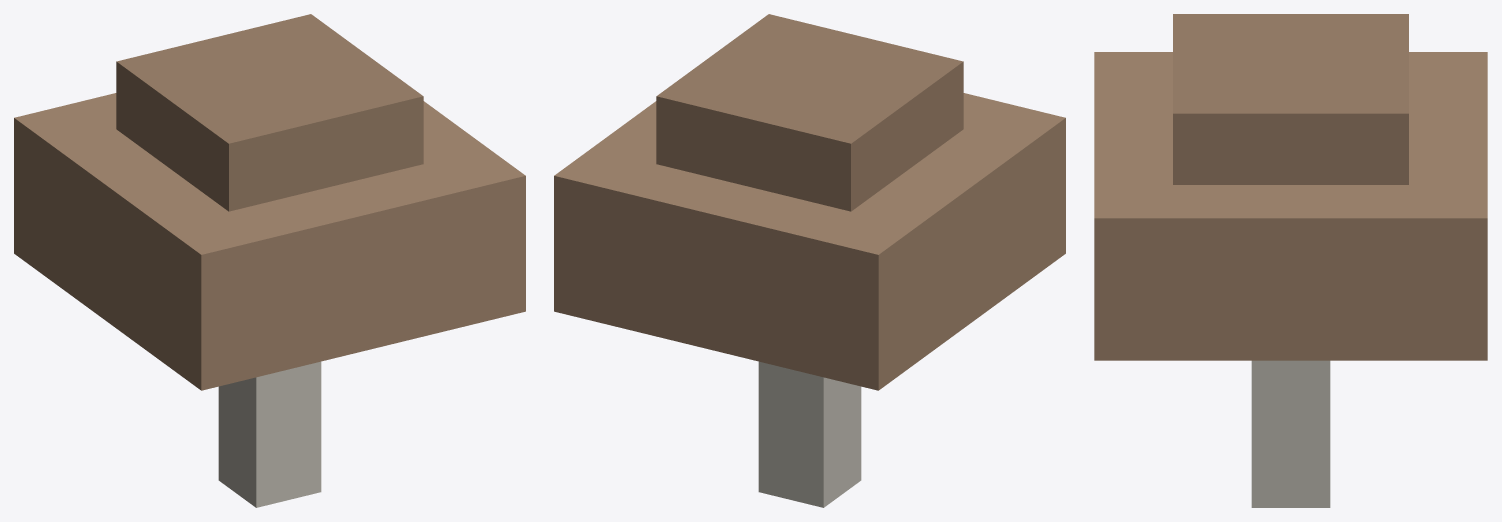
Rendered from boletus_04.glb.
3 renders of one model, left to right at view 1: azimuth 30°, elevation 25°; view 2: azimuth 150°, elevation 25°; view 3: azimuth 270°, elevation 25°, orthographic. The views are drawn at different scales.
Parts seen in each view (by area): view 1: boletus_04; view 2: boletus_04; view 3: boletus_04.
Part boxes in pixels (bbox=[...]): boletus_04: bbox=[14, 14, 525, 507]; boletus_04: bbox=[554, 14, 1065, 507]; boletus_04: bbox=[1094, 14, 1487, 507].
Bounding box in the file's own units: 0.5 × 0.6 × 0.5.
